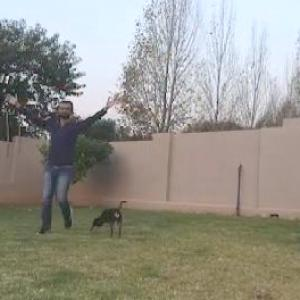takeoff: (2, 88, 122, 222)
